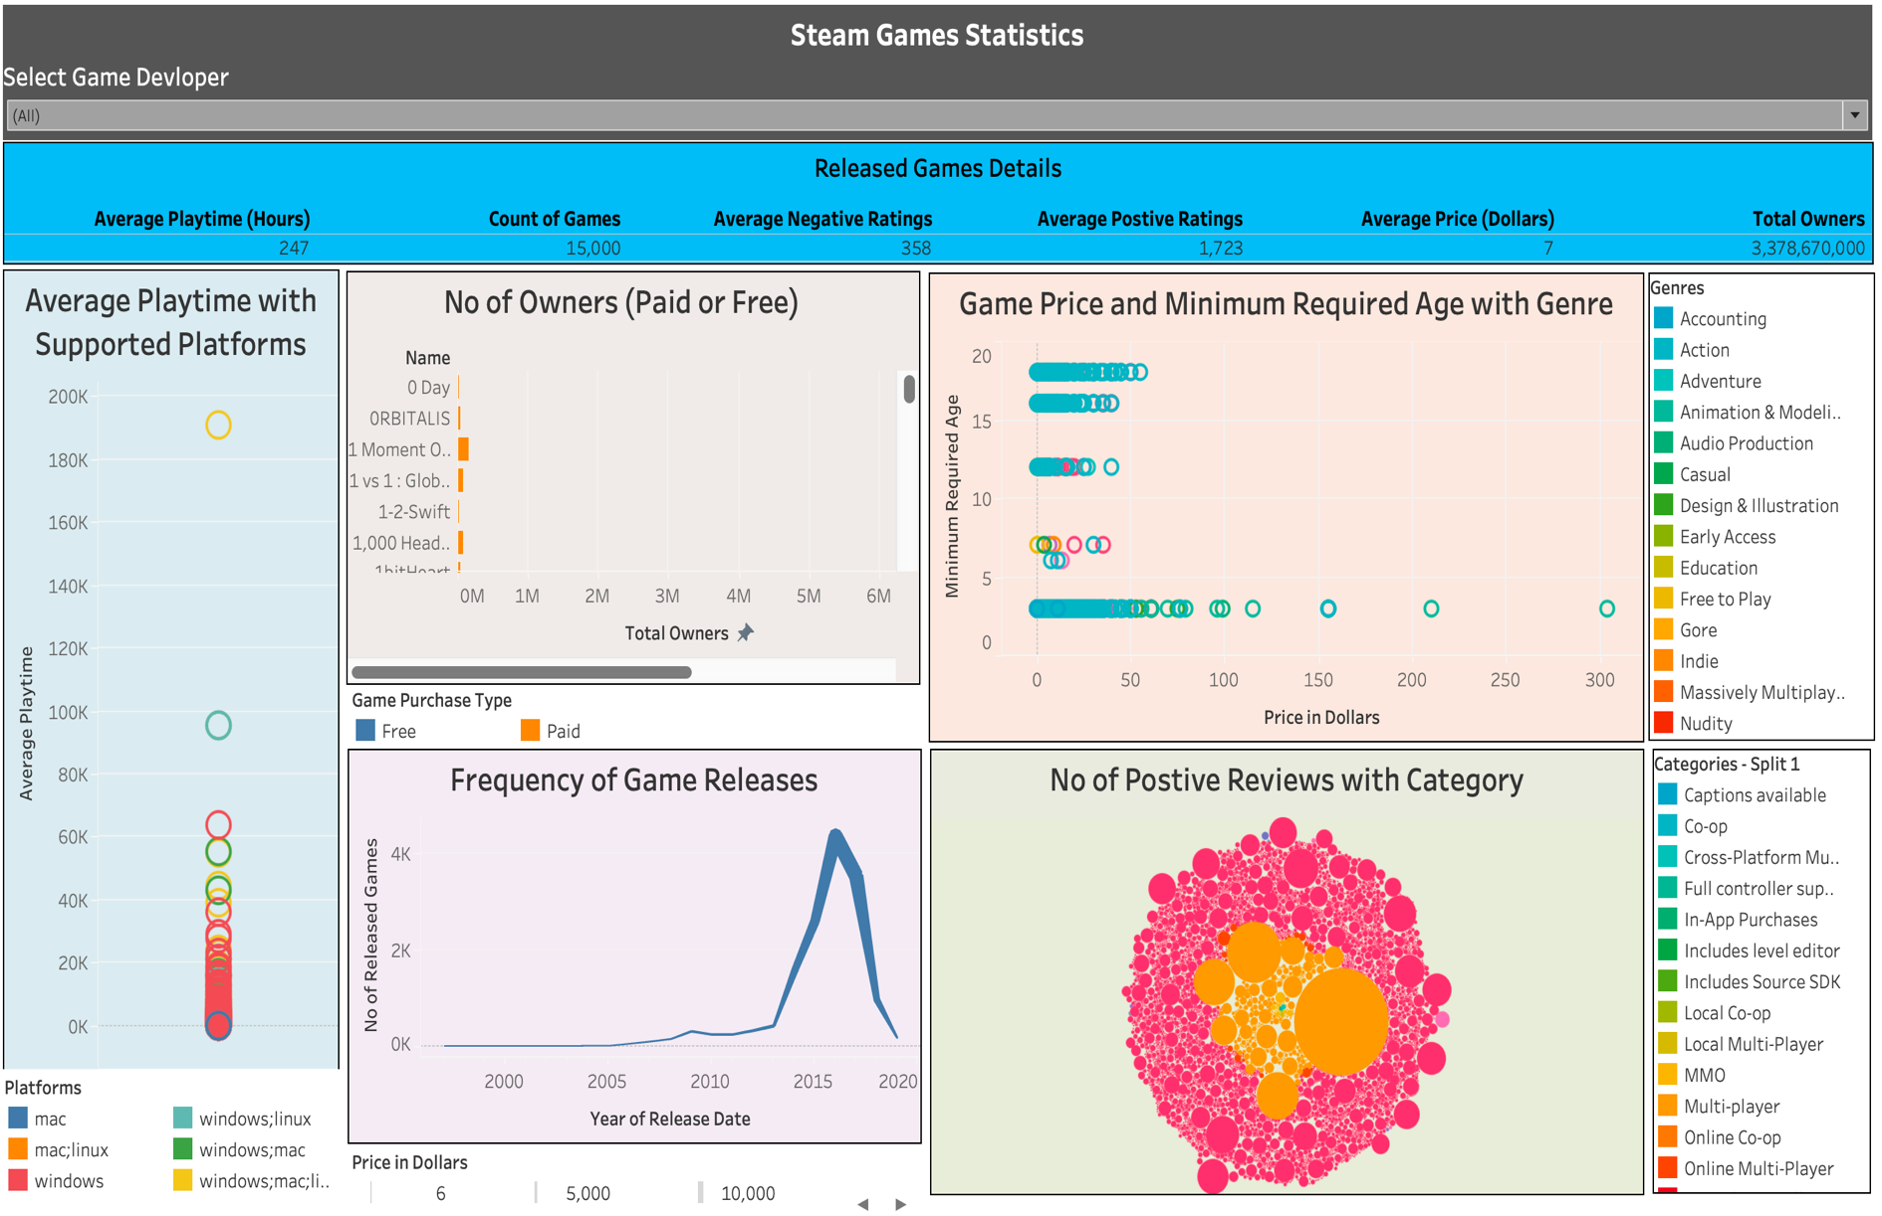

Layout of this report page (visuals, bound fields, positions):
{"tool":"tableau","page":{"name":"Dashboard 1","canvas":[1000,1000],"units":"permille","ordinal":0},"visuals":[{"type":"text","box":[2.9,3.8,996.3,48.8]},{"type":"filter","title":"Sheet 1","param":"[federated.1ngh1ty1hymdza18vl1h30ko10x0].[none:Developer:nk]","box":[2.9,50,996.3,67.5]},{"type":"worksheet","title":"Sheet 1","mark":"Automatic","box":[2.9,118.8,997.1,102.5]},{"type":"worksheet","title":"Sheet 6","mark":"Shape","rows":["Average Playtime"],"box":[2.9,225,179.4,670]},{"type":"worksheet","title":"Sheet 5","mark":"Automatic","rows":["Name"],"cols":["Calculation_2070107758571069441"],"box":[185.9,226.2,306,346.2]},{"type":"worksheet","title":"Sheet 2","mark":"Automatic","rows":["Required Age"],"cols":["Price in Dollars"],"box":[496.3,227.5,381.4,393.8]},{"type":"legend","title":"Sheet 2","param":"[federated.1ngh1ty1hymdza18vl1h30ko10x0].[none:Genre - Split 1:nk]","box":[879.9,227.5,120.8,392.5]},{"type":"legend","title":"Sheet 5","param":"[federated.1ngh1ty1hymdza18vl1h30ko10x0].[none:Game Purchase Type:nk]","box":[188.9,573.8,306.7,52.5]},{"type":"worksheet","title":"Sheet 3","mark":"Automatic","rows":["Dataset  - cleaned.csv_382018DB62BF443E82E85E49FE9CB281"],"cols":["Release Date"],"box":[186.7,626.2,306,331.2]},{"type":"worksheet","title":"Sheet 4","mark":"Circle","box":[497.1,626.2,380.7,373.8]},{"type":"legend","title":"Sheet 4","param":"[federated.1ngh1ty1hymdza18vl1h30ko10x0].[none:Categories - Split 1:nk]","box":[882.1,626.2,116.4,372.5]}]}

Visuals, with their boxes on the dashboard's canvas, which has no fixed pixel size, in thousandths of its width and height (x1, y1, x2, y2). These are canvas units, not pixel positions in the 1882x1216 screenshot, which may show the page scaled, cropped or inside an application window:
text: l=3, t=4, r=999, b=53
"Sheet 1" filter: l=3, t=50, r=999, b=118
"Sheet 1" worksheet: l=3, t=119, r=1000, b=221
"Sheet 6" worksheet (Shape marks): l=3, t=225, r=182, b=895
"Sheet 5" worksheet: l=186, t=226, r=492, b=572
"Sheet 2" worksheet: l=496, t=228, r=878, b=621
"Sheet 2" legend: l=880, t=228, r=1001, b=620
"Sheet 5" legend: l=189, t=574, r=496, b=626
"Sheet 3" worksheet: l=187, t=626, r=493, b=957
"Sheet 4" worksheet (Circle marks): l=497, t=626, r=878, b=1000
"Sheet 4" legend: l=882, t=626, r=998, b=999
